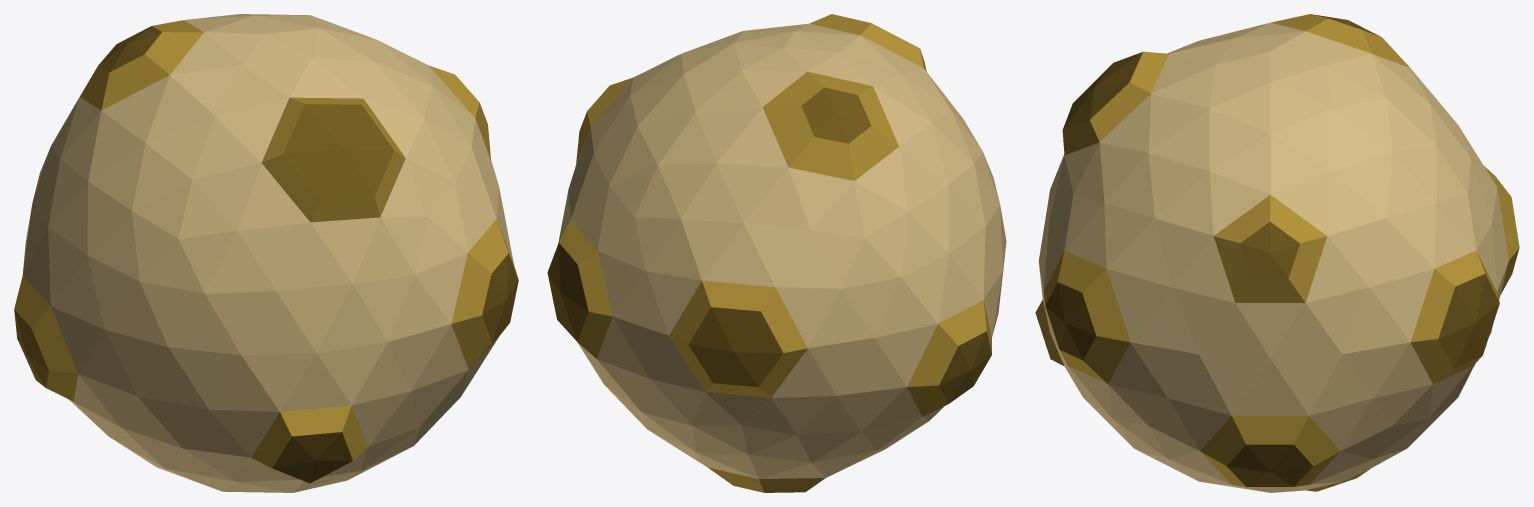
The model's file is canyon.dae.
The picture shows the model from 3 angles, left to right: view 1: azimuth 30°, elevation 25°; view 2: azimuth 150°, elevation 25°; view 3: azimuth 270°, elevation 25°; orthographic projection. The views are drawn at different scales.
Parts seen in each view (by area): view 1: Icosphere; view 2: Icosphere; view 3: Icosphere.
Boxes of the visible parts, x1,y1,x2,y2 form: Icosphere: (14, 14, 518, 492); Icosphere: (547, 14, 1006, 492); Icosphere: (1035, 14, 1519, 492).
Bounding box in the file's own units: 2.09 × 2.09 × 2.08.
